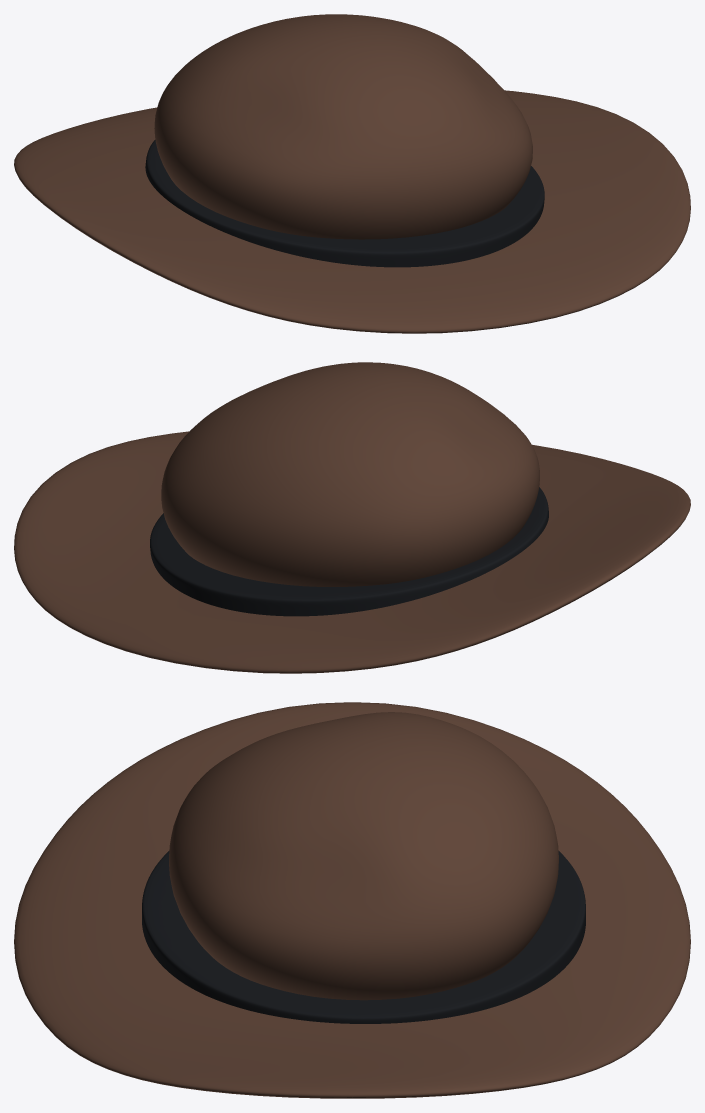
The model's file is fedora.glb.
The picture shows the model from 3 angles, top to bottom: view 1: azimuth 30°, elevation 25°; view 2: azimuth 150°, elevation 25°; view 3: azimuth 270°, elevation 25°; orthographic projection. The views are drawn at different scales.
Visible parts, largest first — view 1: ACC_fedora_brim, ACC_fedora_crown, ACC_fedora_band; view 2: ACC_fedora_crown, ACC_fedora_brim, ACC_fedora_band; view 3: ACC_fedora_brim, ACC_fedora_crown, ACC_fedora_band.
Boxes of the visible parts, left/top/right/bottom form: ACC_fedora_brim: left=14, top=90, right=690, bottom=333; ACC_fedora_crown: left=154, top=14, right=532, bottom=239; ACC_fedora_band: left=145, top=140, right=544, bottom=267; ACC_fedora_crown: left=161, top=362, right=539, bottom=586; ACC_fedora_brim: left=14, top=431, right=690, bottom=673; ACC_fedora_band: left=150, top=487, right=548, bottom=616; ACC_fedora_brim: left=14, top=702, right=690, bottom=1098; ACC_fedora_crown: left=169, top=712, right=558, bottom=1000; ACC_fedora_band: left=142, top=851, right=585, bottom=1023.
Bounding box in the file's own units: 1.33 × 0.4237 × 1.18.
